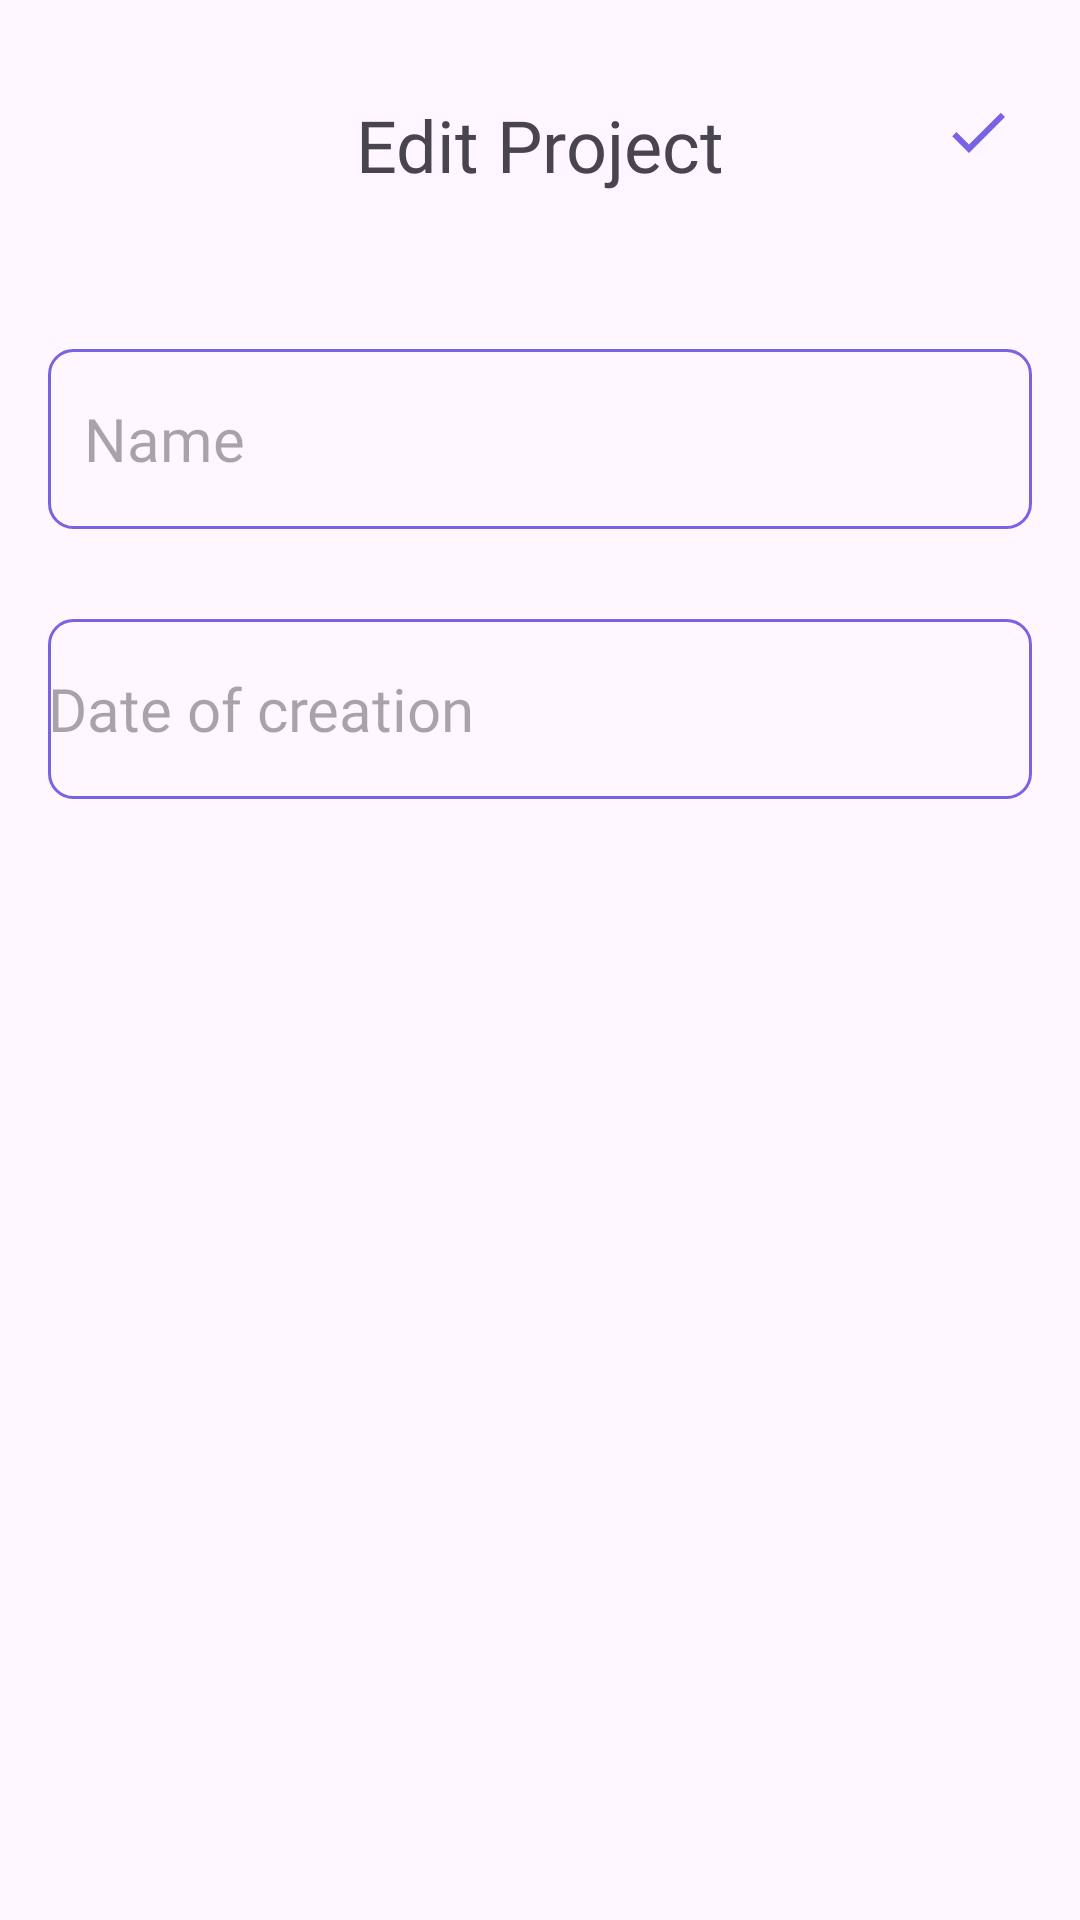

Screen size 1080*1920. Icon name, then its box in pixels as (x1, y1, x2, y2):
done: (952, 113, 1005, 153)
